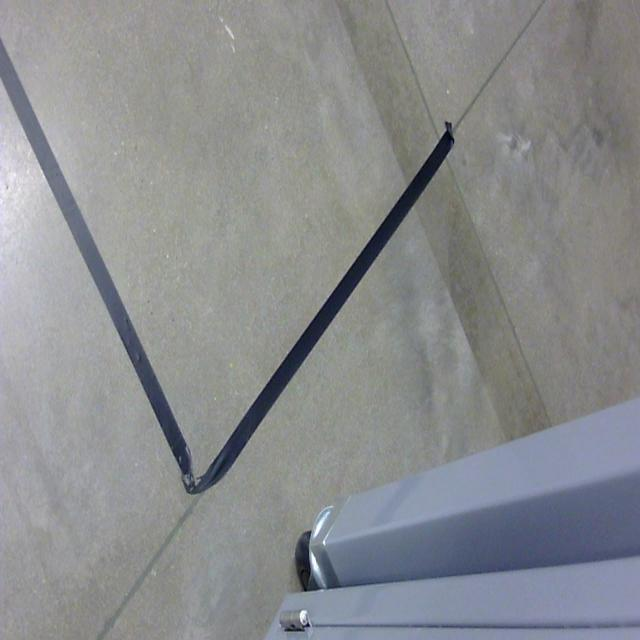tape: (0, 17, 471, 517)
